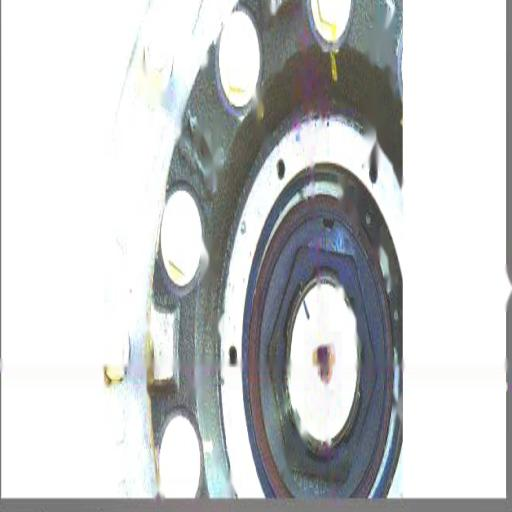center: (313, 340, 331, 380)
notch: (318, 210, 338, 240)
